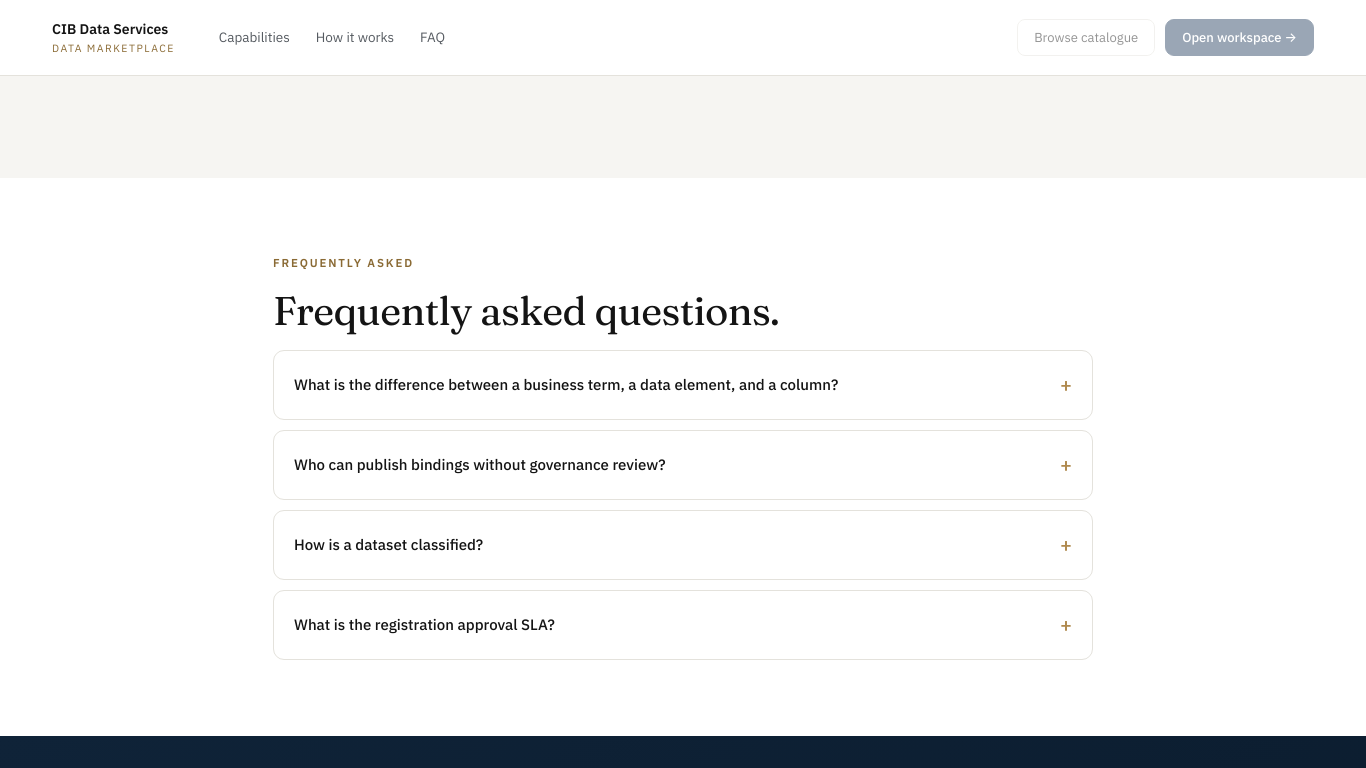
Scenario: LandingPage › toggles FAQ accordion open and closed
(page scrolled)
Click the button "What is the difference between a business term": (683, 384) [273, 350, 1093, 420]
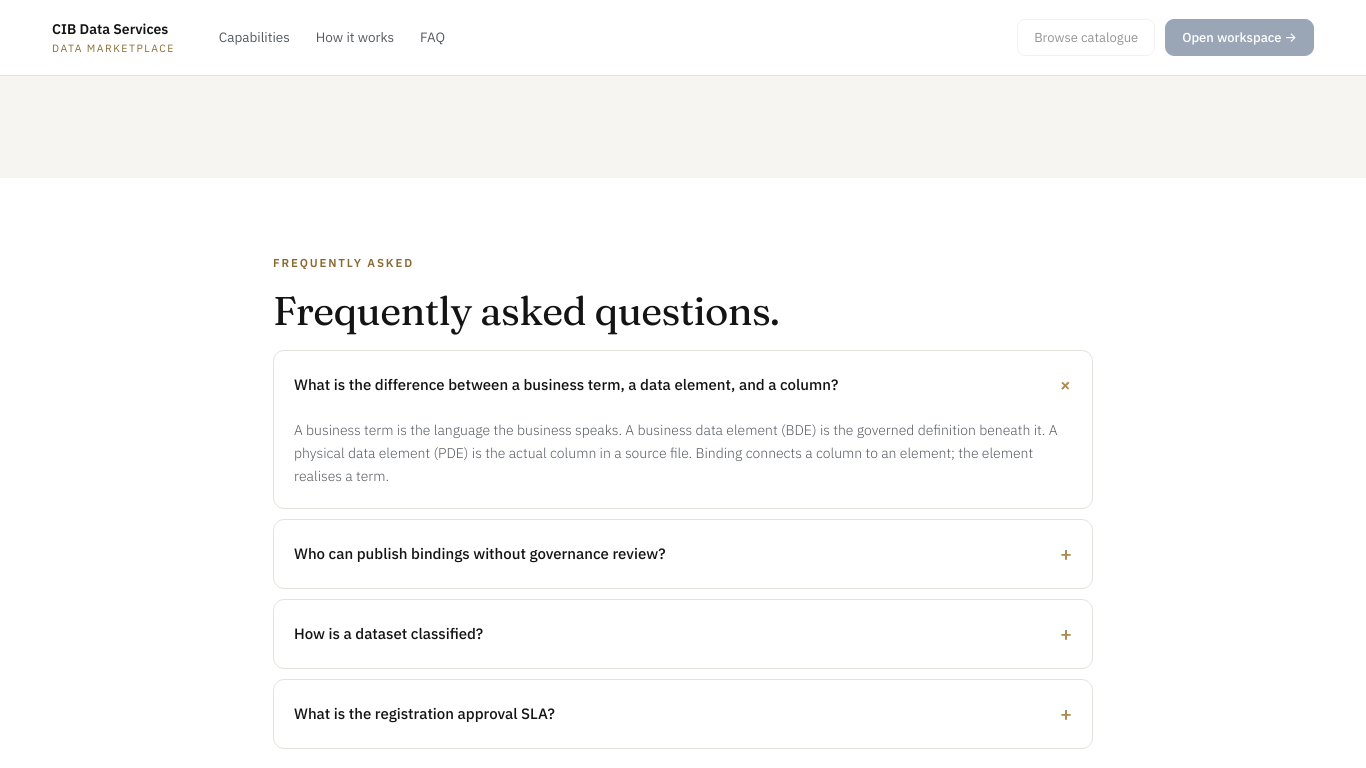
Result: the button "What is the difference between a business term" is expanded
Click the button "What is the difference between a business term": (683, 429) [273, 350, 1093, 509]
(page scrolled)
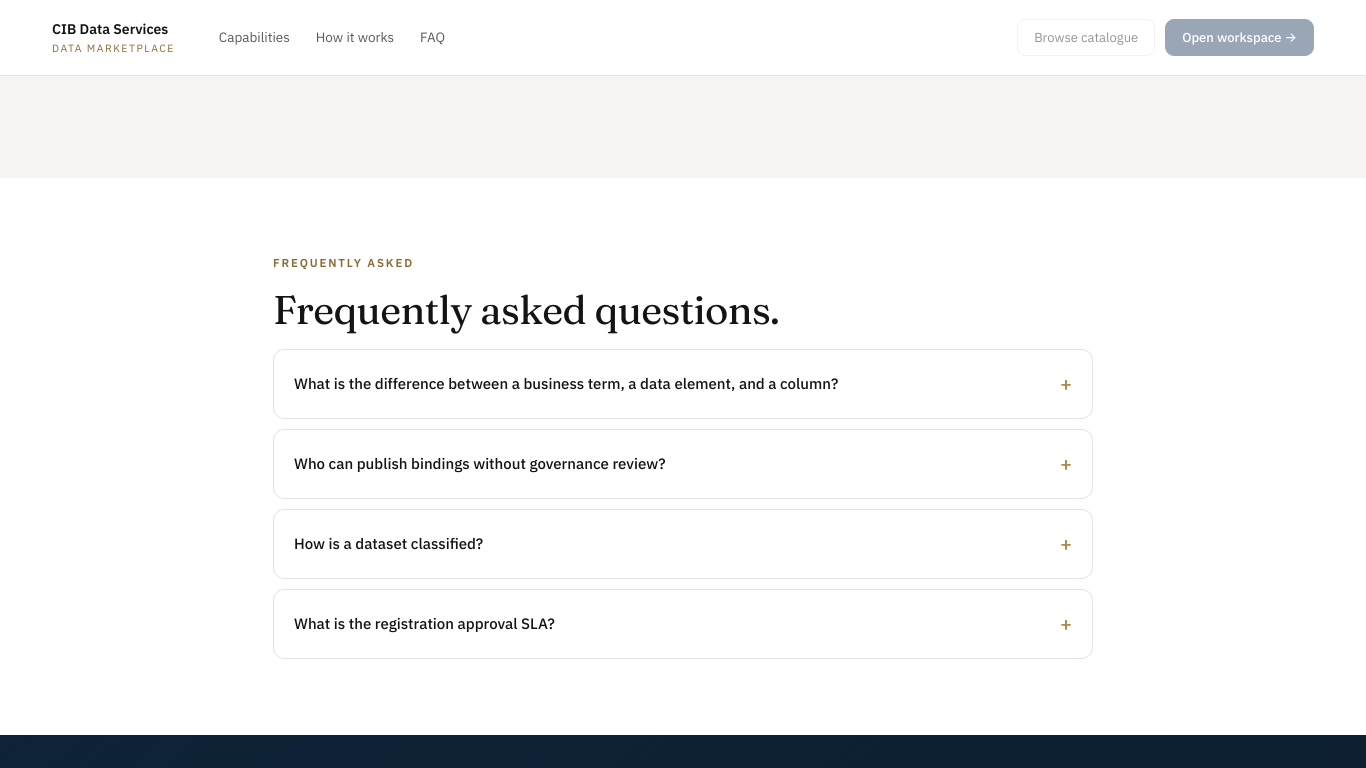
Result: the button "What is the difference between a business term" is collapsed at [273, 349, 1093, 419]
